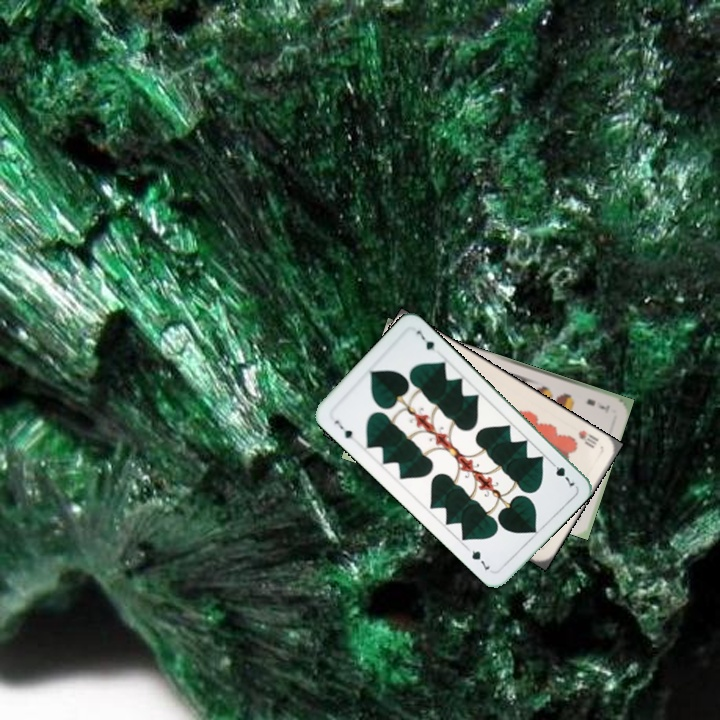E7: (582, 395, 612, 414)
G7: (545, 456, 577, 489), (330, 416, 358, 445)
H10: (574, 426, 602, 451)
